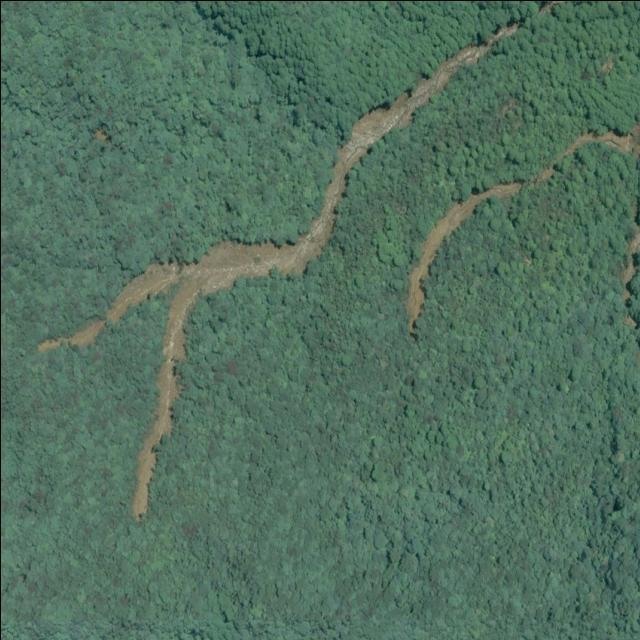landslide: (37, 20, 520, 518), (406, 181, 523, 331), (552, 119, 640, 164)
